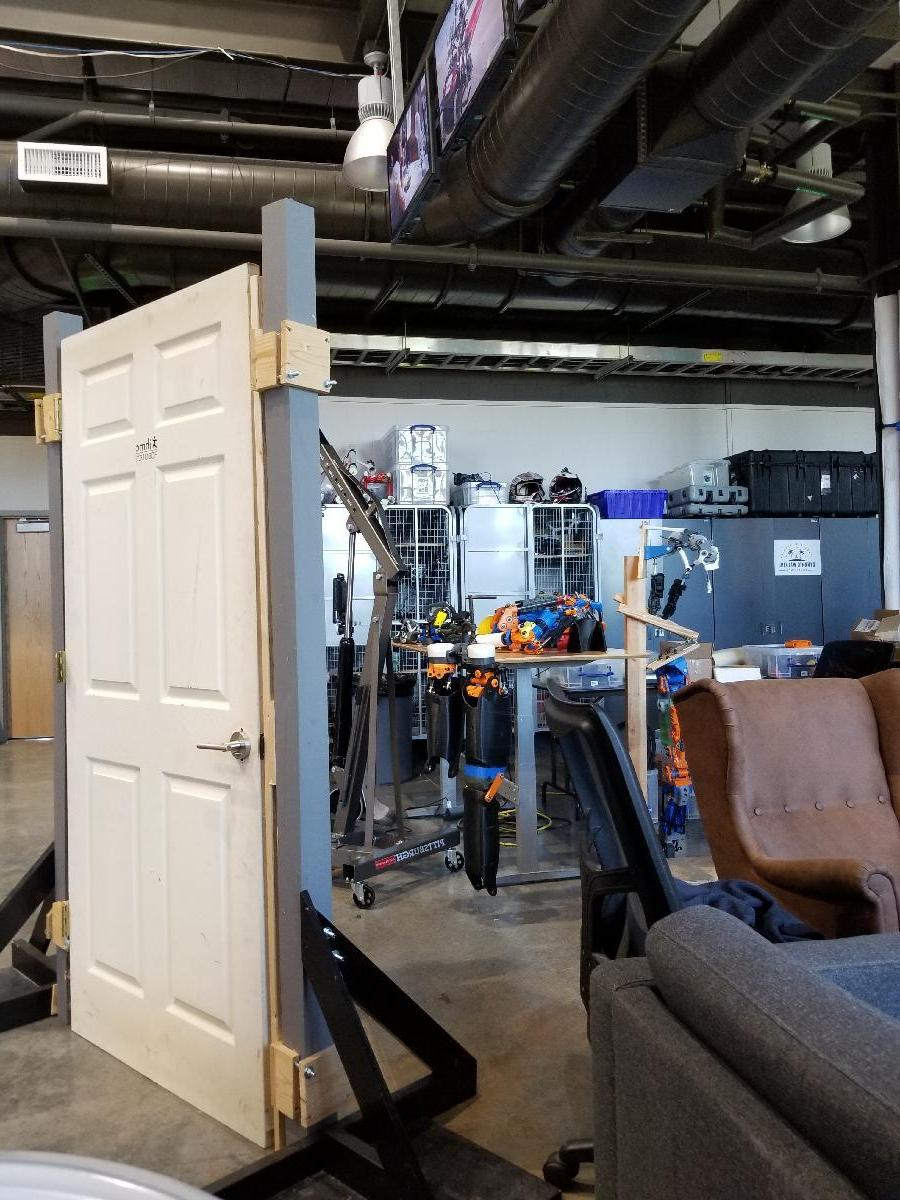door: (62, 255, 262, 1124)
handle: (191, 728, 247, 762)
